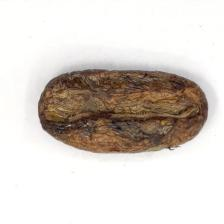NG: (37, 69, 209, 154)
